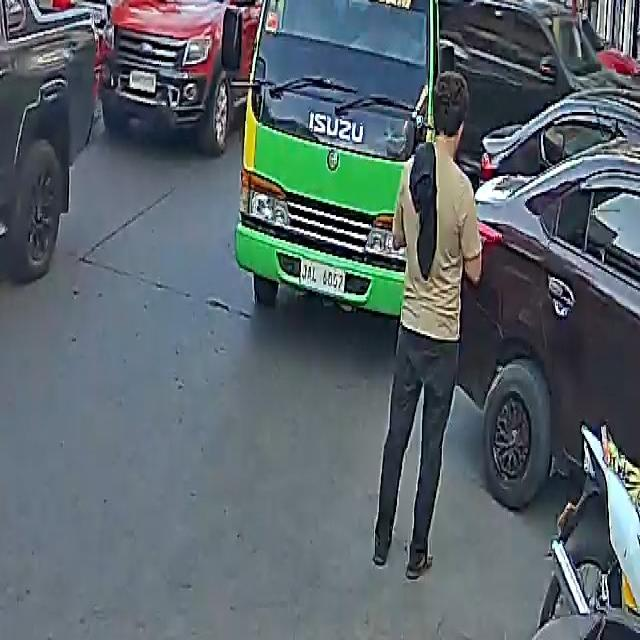car: (460, 157, 640, 519), (0, 0, 103, 430), (446, 0, 640, 188), (99, 0, 266, 153)
